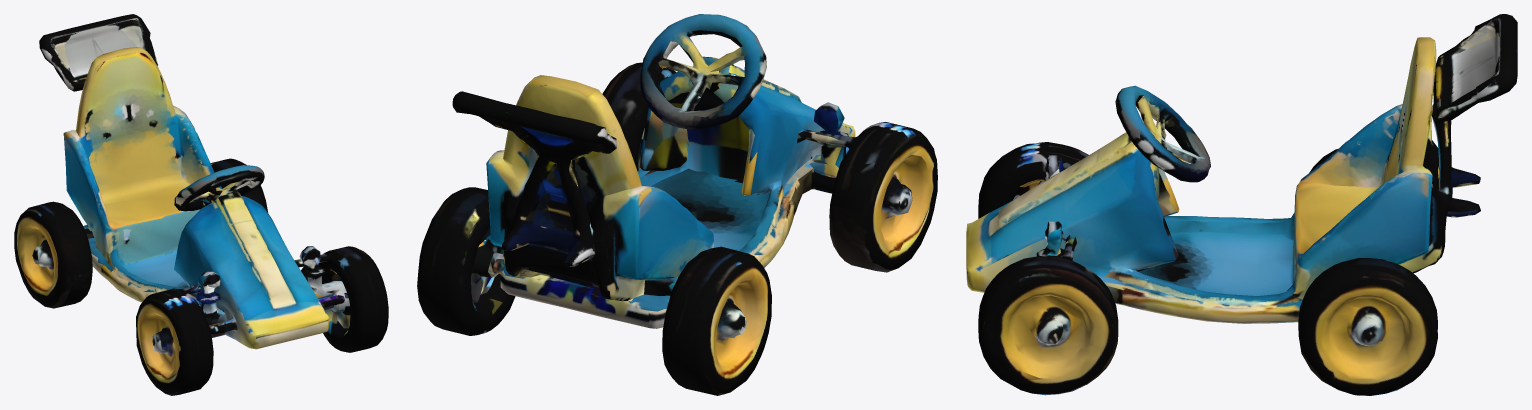
Rendered from kart.glb.
3 renders of one model, left to right at view 1: azimuth 30°, elevation 25°; view 2: azimuth 150°, elevation 25°; view 3: azimuth 270°, elevation 25°, orthographic. The views are drawn at different scales.
Visible parts, largest first — view 1: Body, Wheel_RL, Wheel_FL, Wheel_FR, Wheel_RR; view 2: Body, Wheel_FL, Wheel_RL, Wheel_RR, Wheel_FR; view 3: Body, Wheel_RR, Wheel_FR, Wheel_FL, Wheel_RL.
Part boxes in pixels (left/top/right/bottom): Body: left=39, top=14, right=388, bottom=394; Wheel_RL: left=14, top=193, right=128, bottom=308; Wheel_FL: left=136, top=271, right=249, bottom=395; Wheel_FR: left=293, top=246, right=375, bottom=352; Wheel_RR: left=181, top=158, right=268, bottom=212; Body: left=452, top=14, right=937, bottom=322; Wheel_FL: left=755, top=108, right=933, bottom=272; Wheel_RL: left=608, top=240, right=771, bottom=395; Wheel_RR: left=417, top=187, right=529, bottom=335; Wheel_FR: left=602, top=62, right=689, bottom=182; Body: left=966, top=14, right=1517, bottom=386; Wheel_RR: left=1291, top=238, right=1437, bottom=395; Wheel_FR: left=984, top=223, right=1141, bottom=395; Wheel_FL: left=999, top=142, right=1088, bottom=204; Wheel_RL: left=1287, top=148, right=1382, bottom=239.
Bounding box in the file's own units: 1.03 × 1 × 1.73.
1 material, 1 textured.
